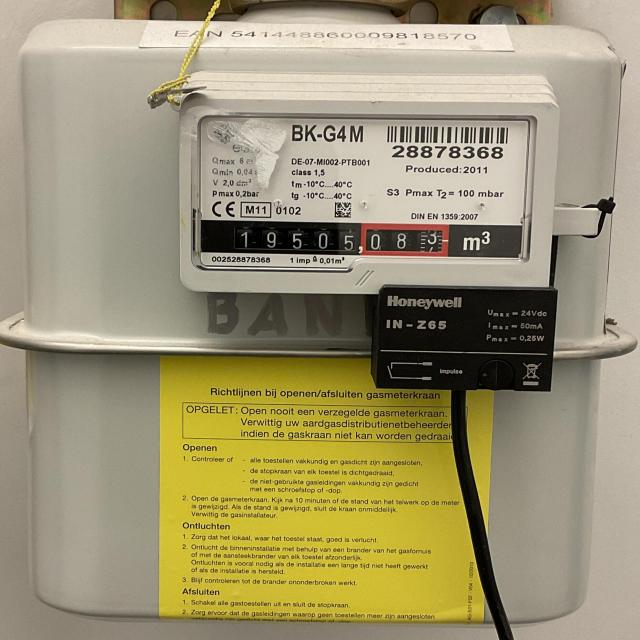gaz_meter: (198, 110, 538, 275)
indication: (206, 220, 449, 254)
